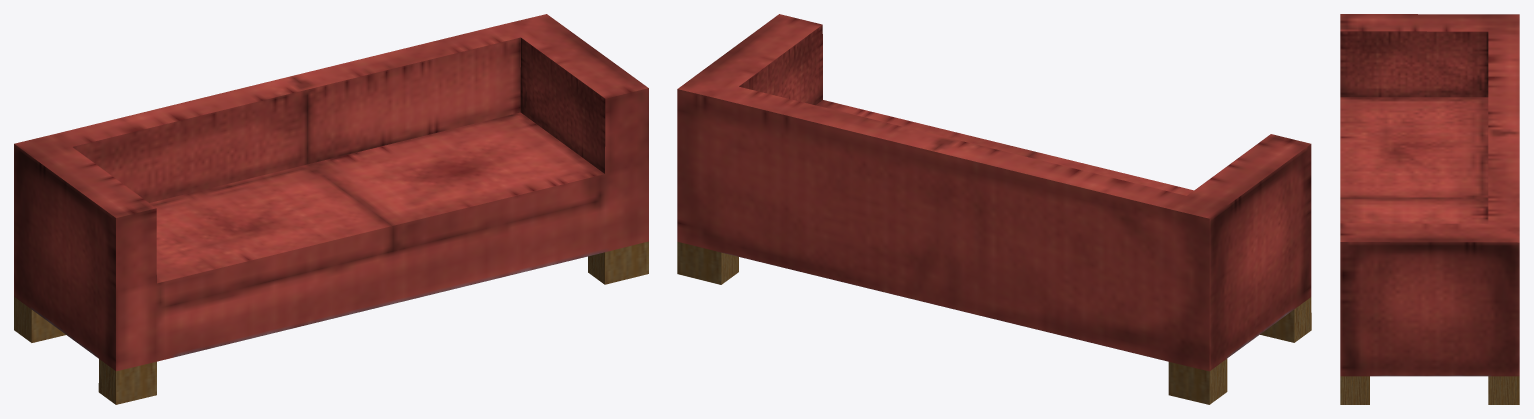
File: MKU_russia_sofa_fin 1.fbx
3 renders of one model, left to right at view 1: azimuth 30°, elevation 25°; view 2: azimuth 150°, elevation 25°; view 3: azimuth 270°, elevation 25°, orthographic. The views are drawn at different scales.
Parts seen in each view (by area): view 1: Cube; view 2: Cube; view 3: Cube.
Part boxes in pixels (bbox=[...]): Cube: bbox=[14, 14, 648, 404]; Cube: bbox=[677, 14, 1311, 404]; Cube: bbox=[1340, 14, 1519, 404].
Size of the model in its own units: 603 by 202 by 200.
